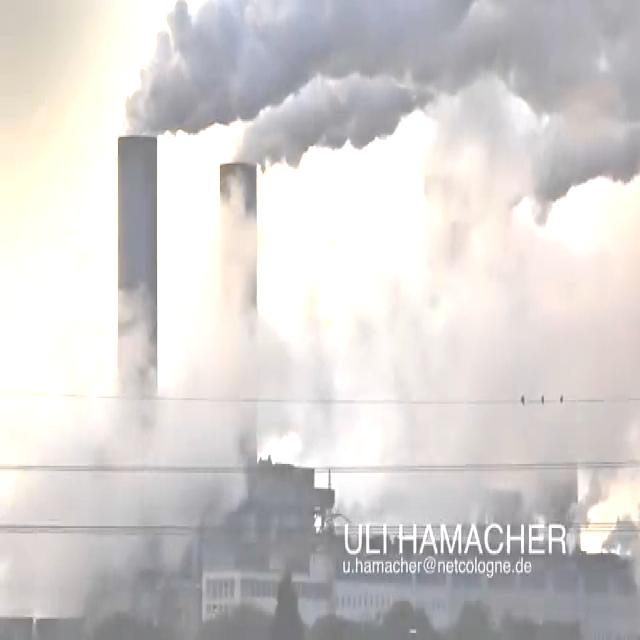smoke: (119, 0, 640, 199)
